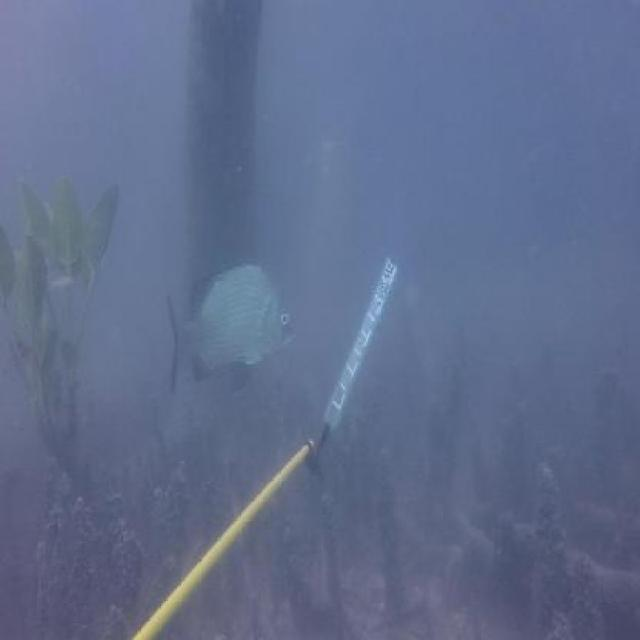acanthopagrus_palmaris: (162, 253, 300, 399)
